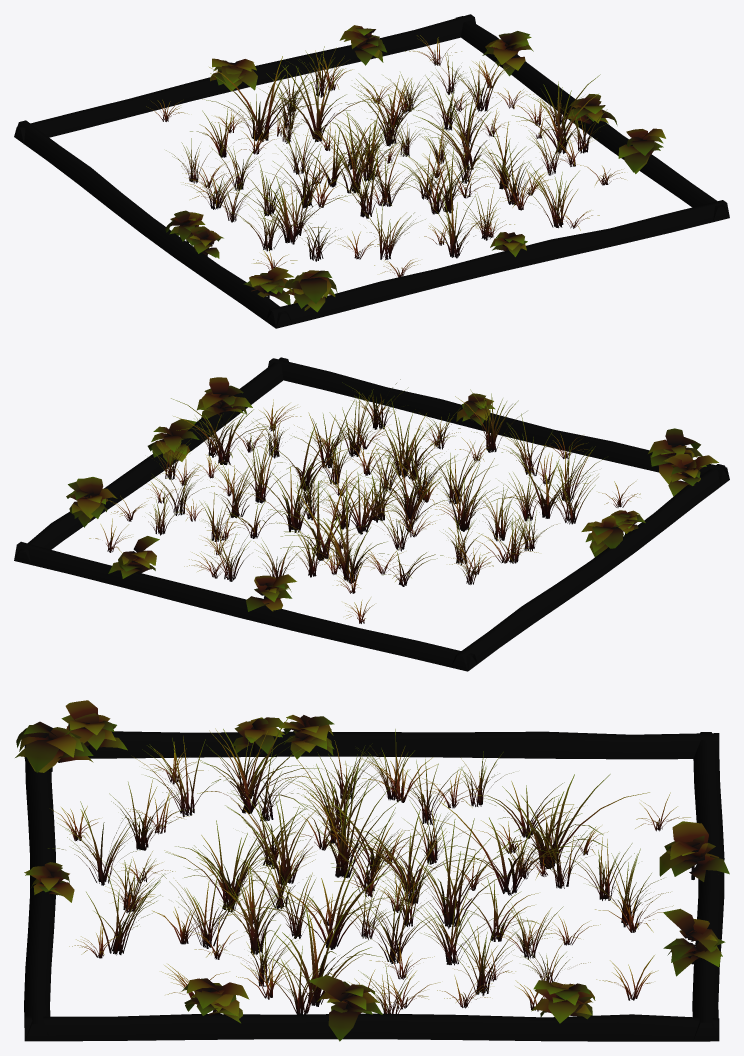
The model's file is patch_paddy_fallow.glb.
3 renders of one model, top to bottom at view 1: azimuth 30°, elevation 25°; view 2: azimuth 150°, elevation 25°; view 3: azimuth 270°, elevation 25°, orthographic. The views are drawn at different scales.
Parts seen in each view (by area): view 1: patch_paddy_fallow; view 2: patch_paddy_fallow; view 3: patch_paddy_fallow.
Boxes of the visible parts, box(x1,y1,x2,y2) form: patch_paddy_fallow: box(14, 14, 729, 328); patch_paddy_fallow: box(14, 357, 729, 671); patch_paddy_fallow: box(15, 700, 729, 1041).
Size of the model in its own units: 12.35 by 1.77 by 12.37.
1 material, 1 textured.
